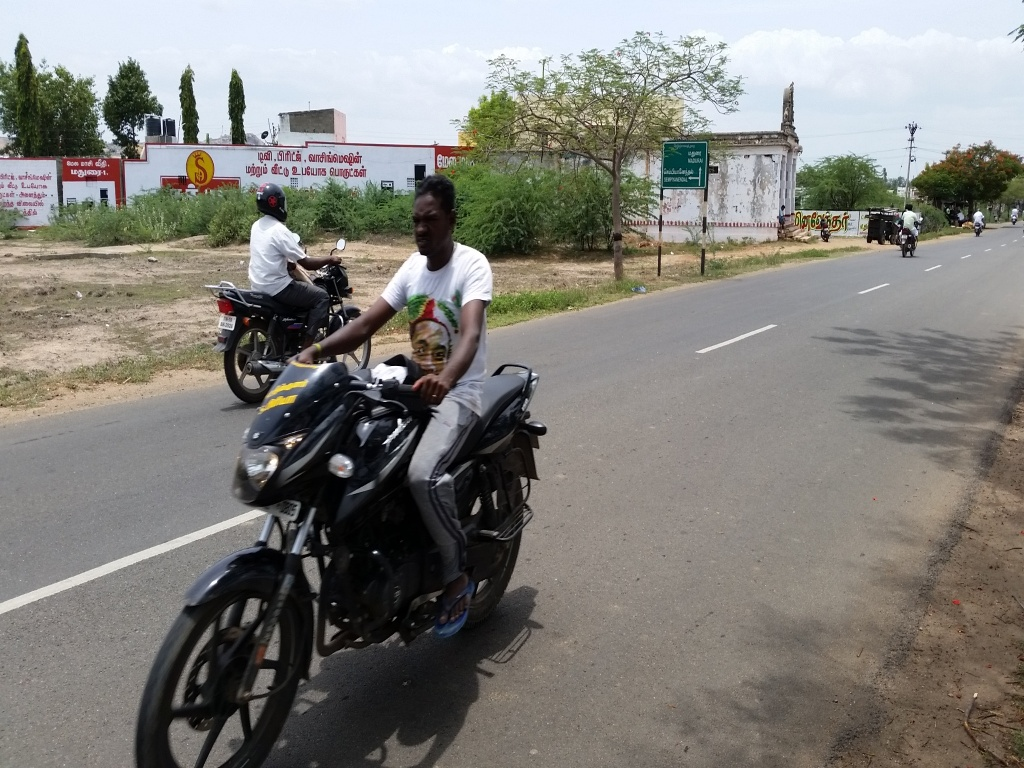biker: (110, 53, 581, 768), (197, 132, 368, 408)
helmet: (247, 172, 303, 238)
nohelmet: (397, 156, 473, 282)
